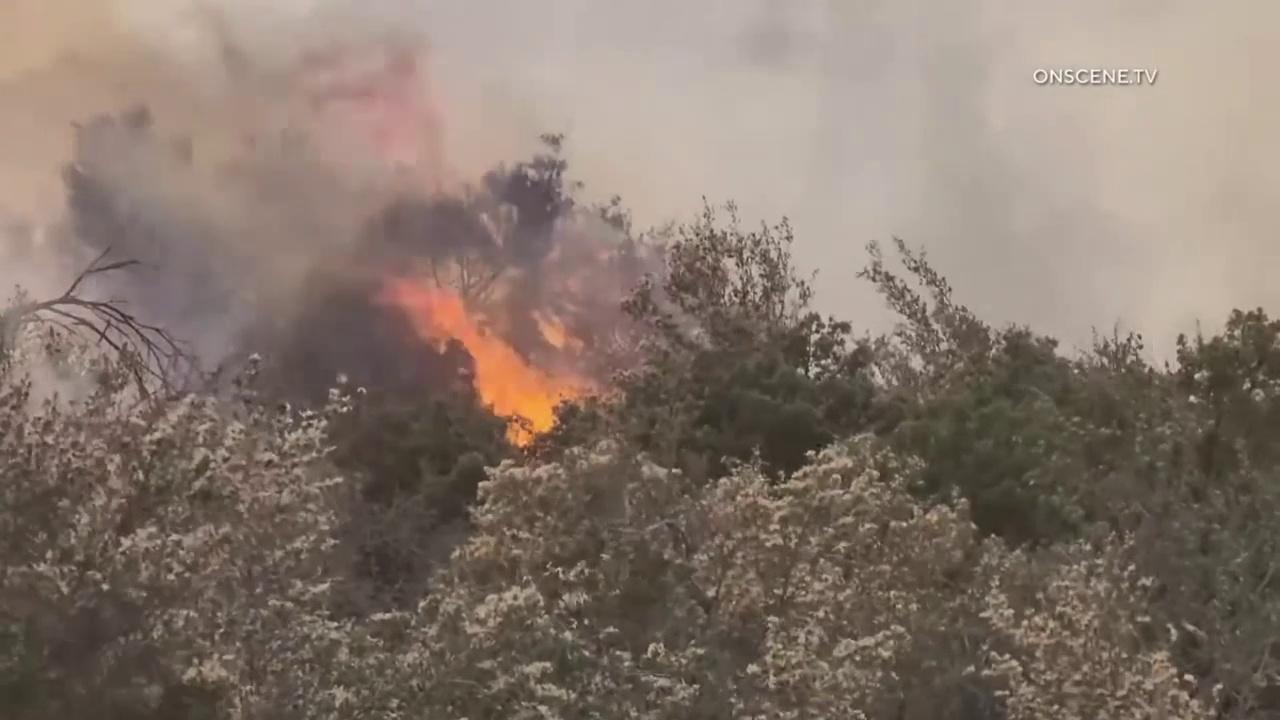fire: (365, 269, 616, 455)
smoke: (0, 0, 1280, 430)
